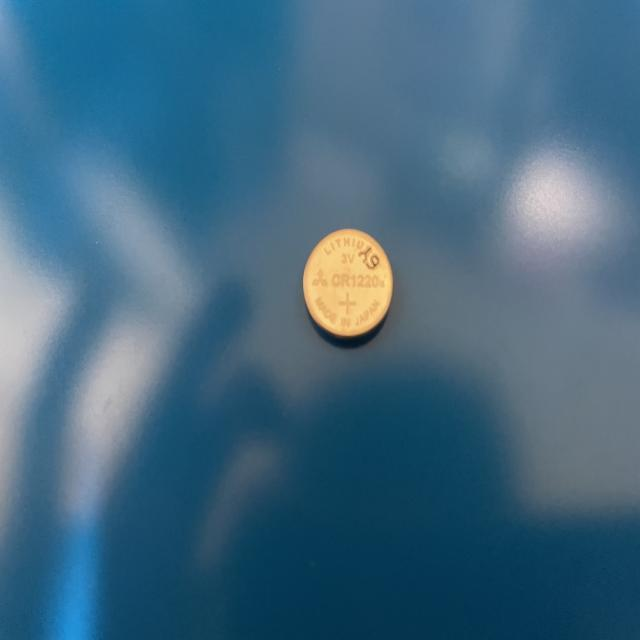COIN: (302, 228, 392, 346)
